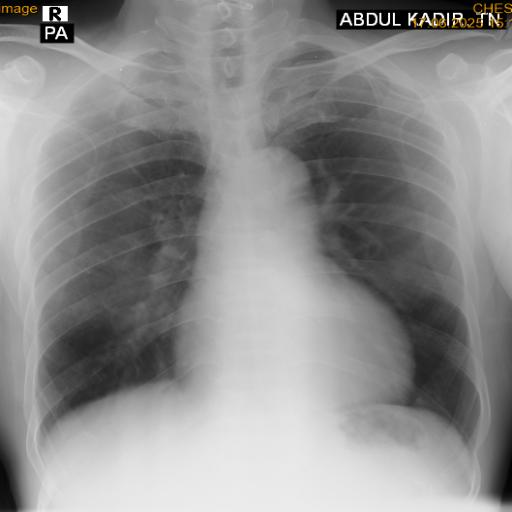kardiomegali: (0, 32, 484, 459)
